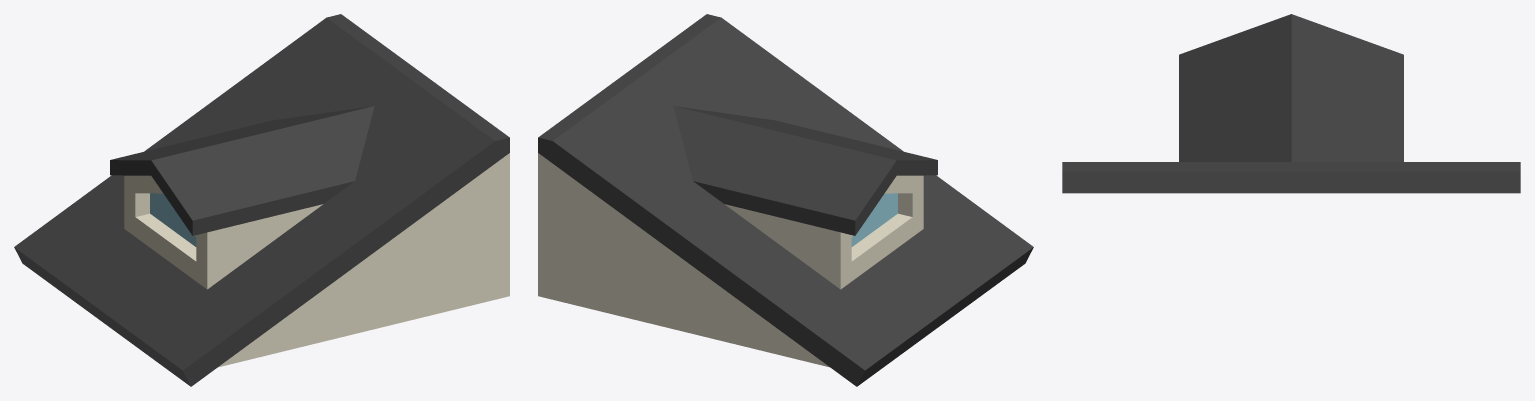
File: modularBuildings_063.obj
3 views of the same model, side by side, from view 1: azimuth 30°, elevation 25°; view 2: azimuth 150°, elevation 25°; view 3: azimuth 270°, elevation 25° (orthographic). The views are drawn at different scales.
Visible parts, largest first — view 1: modularBuildings_063; view 2: modularBuildings_063; view 3: modularBuildings_063.
Boxes of the visible parts, box(x1,y1,x2,y2) form: modularBuildings_063: box(14, 14, 509, 386); modularBuildings_063: box(538, 14, 1033, 386); modularBuildings_063: box(1062, 14, 1520, 193).
Size of the model in its own units: 1.12 by 0.5612 by 1.
